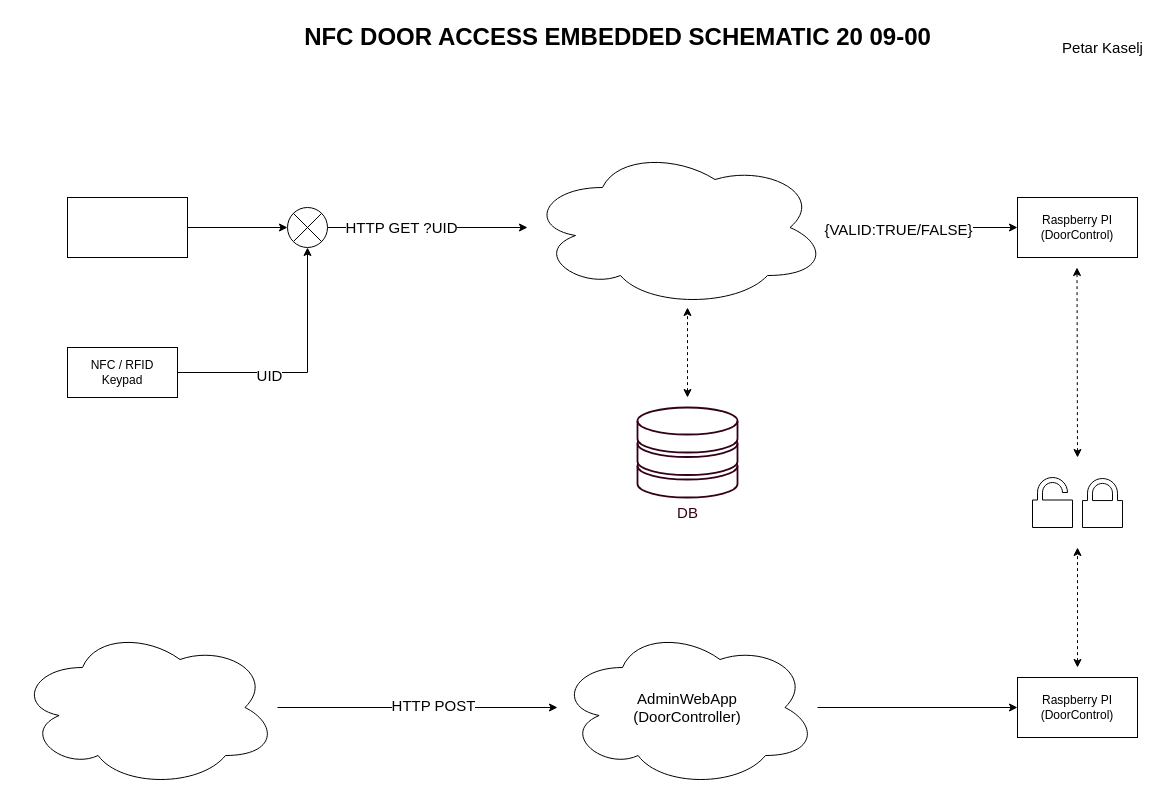
This 1167x805 diagram has some shape labels left out. The centre of each missing label's shape, as x and y in pixels:
AdminWebApp: point (147, 707)
Raspberry PI (Main): point (127, 227)
WebAPI (VerificationController): point (677, 227)
